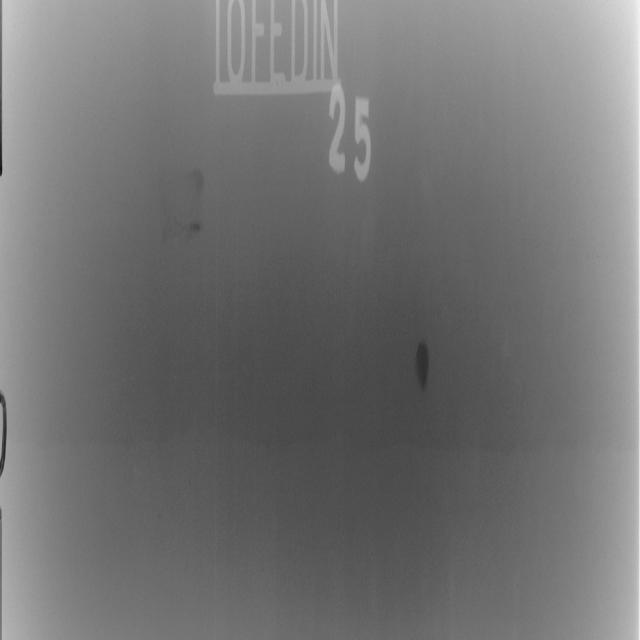FP: (156, 164, 213, 246)
PO: (407, 320, 439, 409)
